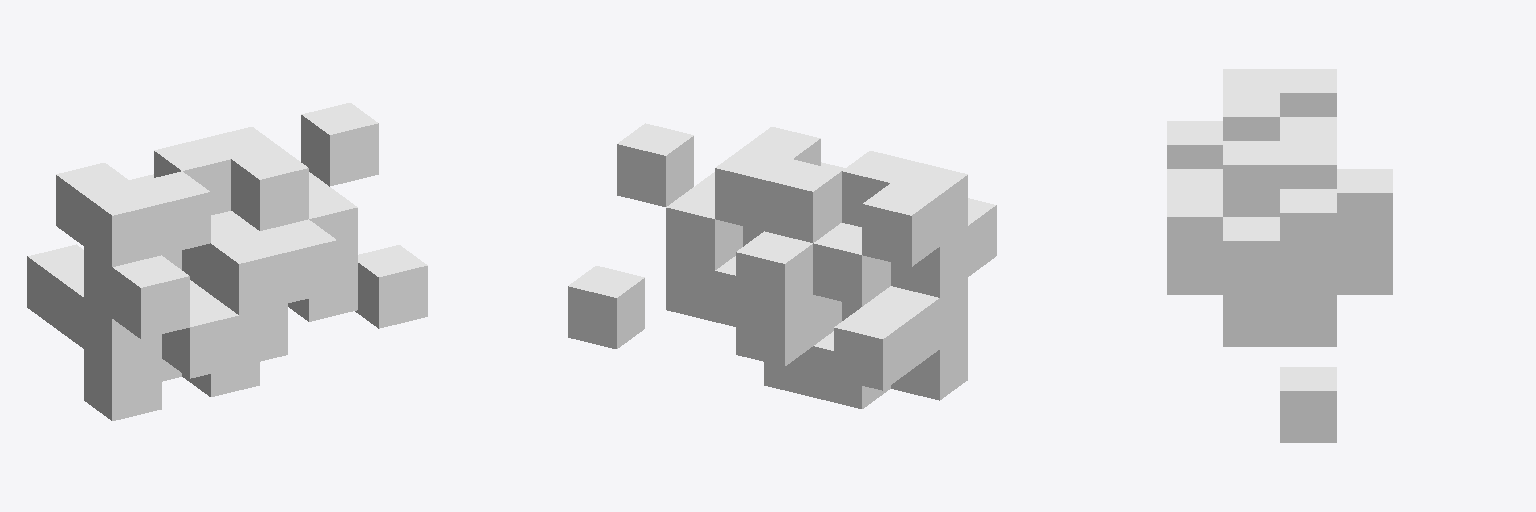
The model's file is dust.obj.
3 views of the same model, side by side, from view 1: azimuth 30°, elevation 25°; view 2: azimuth 150°, elevation 25°; view 3: azimuth 270°, elevation 25° (orthographic).
Visible parts, largest first — view 1: object 1; view 2: object 1; view 3: object 1.
Boxes of the visible parts, <box> form: object 1: <box>27,103,427,420</box>; object 1: <box>568,123,996,408</box>; object 1: <box>1167,69,1392,442</box>.
Size of the model in its own units: 0.7 by 0.4 by 0.4.